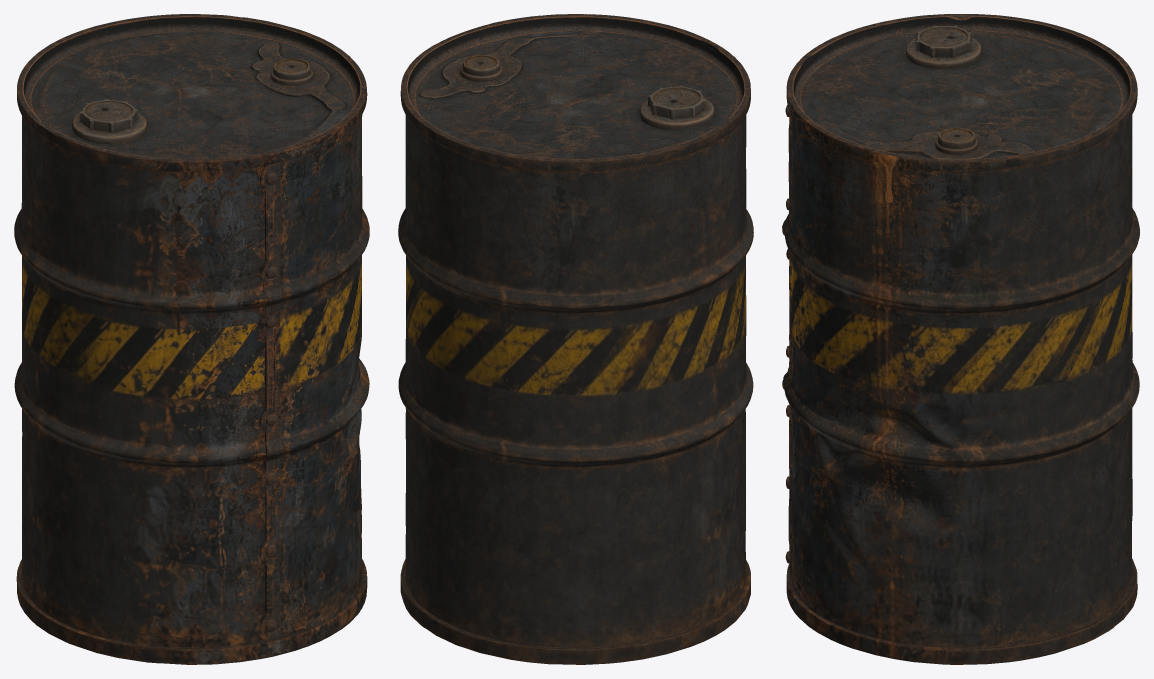
The model's file is barrel.glb.
3 renders of one model, left to right at view 1: azimuth 30°, elevation 25°; view 2: azimuth 150°, elevation 25°; view 3: azimuth 270°, elevation 25°, orthographic.
Parts seen in each view (by area): view 1: output_unwrapped; view 2: output_unwrapped; view 3: output_unwrapped.
Boxes of the visible parts, bbox=[...] form: output_unwrapped: bbox=[14, 14, 369, 664]; output_unwrapped: bbox=[398, 14, 753, 664]; output_unwrapped: bbox=[782, 14, 1139, 664].
Size of the model in its own units: 1.2 by 1.9 by 1.21.
Materials: 1 (1 with a texture image).
